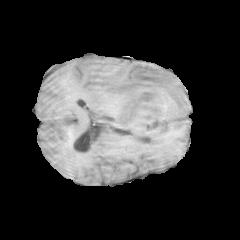glioma: (88, 66, 188, 142)
